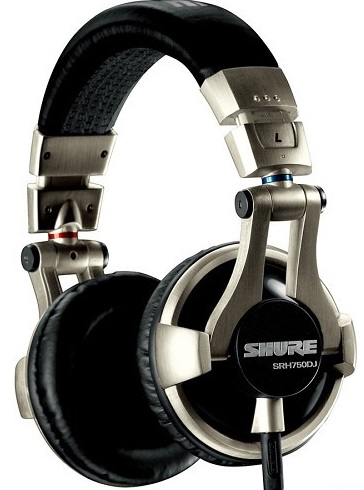Headphone: (14, 1, 363, 490)
